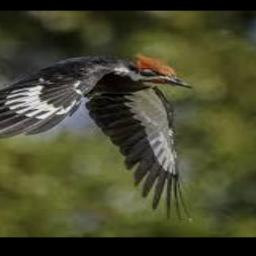Woodpecker: (0, 52, 192, 222)
